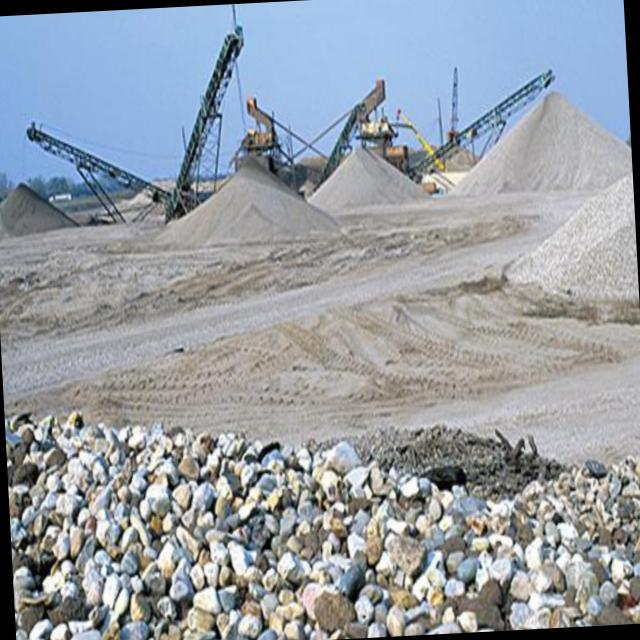rocks: (5, 413, 640, 640)
white-sand: (0, 93, 640, 459)
